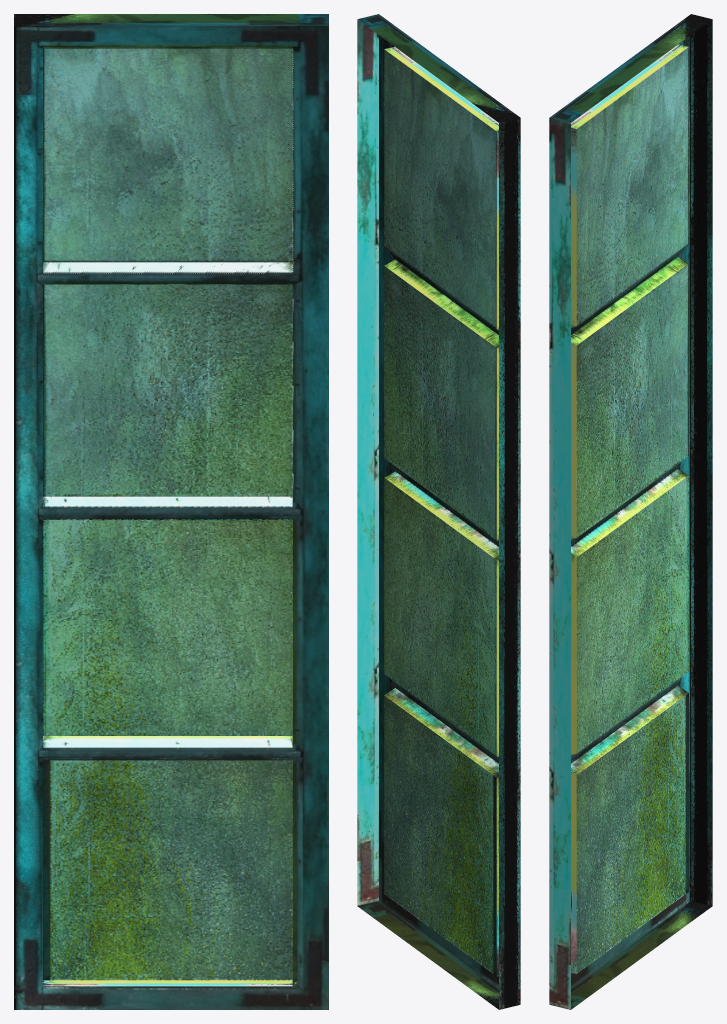
File: Vent_der.obj
The picture shows the model from 3 angles, left to right: view 1: azimuth 30°, elevation 25°; view 2: azimuth 150°, elevation 25°; view 3: azimuth 270°, elevation 25°; orthographic projection. The views are drawn at different scales.
Parts seen in each view (by area): view 1: pasted__pasted__ventana2 pasted__group group3 Enter_a_title9:gla, Enter_a_title9:win_still pasted__pasted__ventana2 pasted__group ; view 2: pasted__pasted__ventana2 pasted__group group3 Enter_a_title9:gla, Enter_a_title9:win_still pasted__pasted__ventana2 pasted__group ; view 3: pasted__pasted__ventana2 pasted__group group3 Enter_a_title9:gla, Enter_a_title9:win_still pasted__pasted__ventana2 pasted__group .
Boxes of the visible parts, x1,y1,x2,y2 form: pasted__pasted__ventana2 pasted__group group3 Enter_a_title9:gla: (43, 48, 292, 980); Enter_a_title9:win_still pasted__pasted__ventana2 pasted__group : (14, 14, 328, 1009); pasted__pasted__ventana2 pasted__group group3 Enter_a_title9:gla: (384, 49, 496, 975); Enter_a_title9:win_still pasted__pasted__ventana2 pasted__group : (357, 14, 520, 1009); pasted__pasted__ventana2 pasted__group group3 Enter_a_title9:gla: (576, 47, 688, 973); Enter_a_title9:win_still pasted__pasted__ventana2 pasted__group : (549, 14, 712, 1009).
Size of the model in its own units: 0.4095 by 1.55 by 0.2593.
2 materials, 2 textured.
